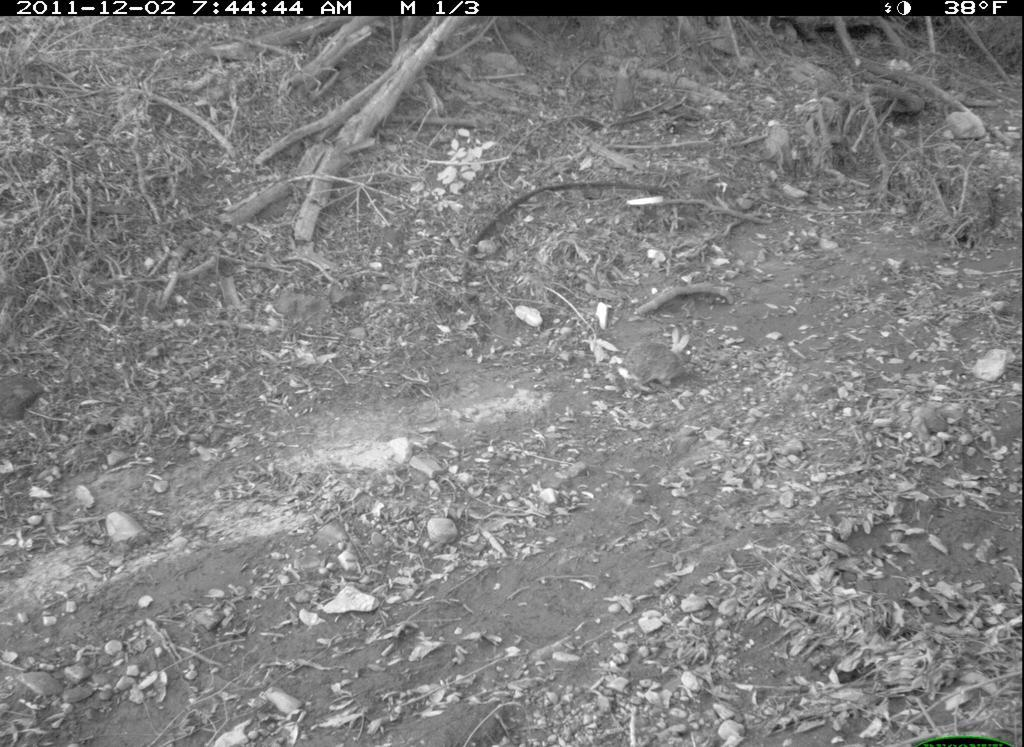rabbit: (612, 326, 707, 409)
